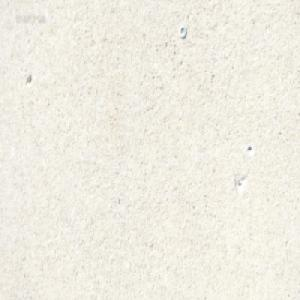Washer: (179, 23, 187, 37)
